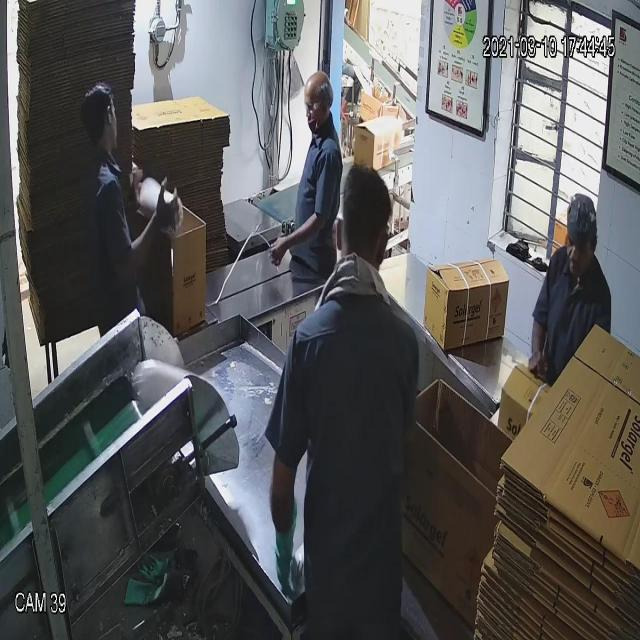No_Gloves: (18, 71, 538, 346)
